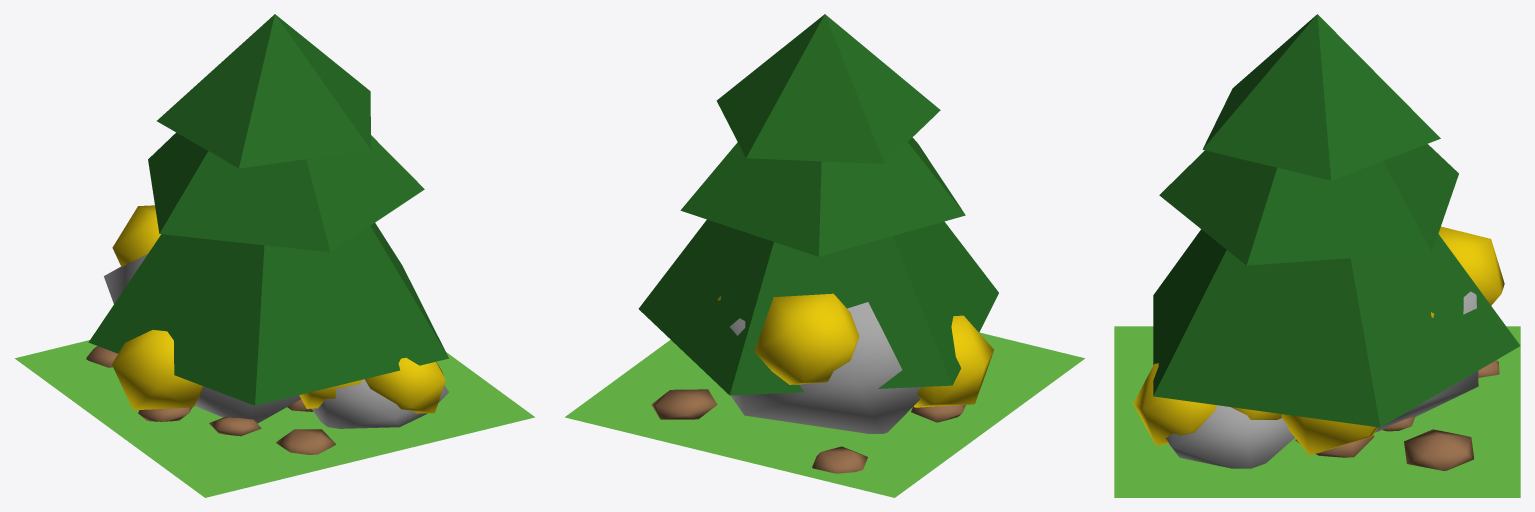
The model's file is terrain.glb.
The picture shows the model from 3 angles, left to right: view 1: azimuth 30°, elevation 25°; view 2: azimuth 150°, elevation 25°; view 3: azimuth 270°, elevation 25°; orthographic projection. The views are drawn at different scales.
Visible parts, largest first — view 1: wood, grass, gold, stone, clay; view 2: wood, grass, gold, stone, clay; view 3: wood, grass, gold, stone, clay.
Part boxes in pixels (<box>): wood: <box>88,14,448,405</box>; grass: <box>15,340,534,497</box>; gold: <box>112,205,445,413</box>; stone: <box>104,254,448,428</box>; clay: <box>86,346,335,454</box>; wood: <box>638,14,998,395</box>; grass: <box>565,332,1084,497</box>; gold: <box>717,293,993,407</box>; stone: <box>730,302,920,433</box>; clay: <box>651,389,965,473</box>; wood: <box>1153,14,1520,427</box>; grass: <box>1114,326,1520,497</box>; gold: <box>1133,226,1504,455</box>; stone: <box>1166,291,1478,468</box>; clay: <box>1295,360,1499,470</box>.
Size of the model in its own units: 2 by 2.31 by 2.
